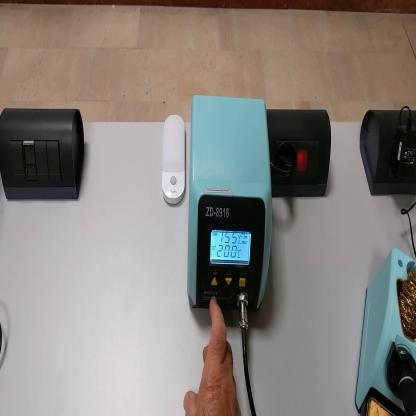hand: (183, 300, 240, 415)
socket: (269, 110, 334, 200), (361, 109, 416, 200)
welder base: (355, 251, 416, 416)
welder probe tip: (397, 367, 416, 414)
welder station: (188, 95, 274, 313)
